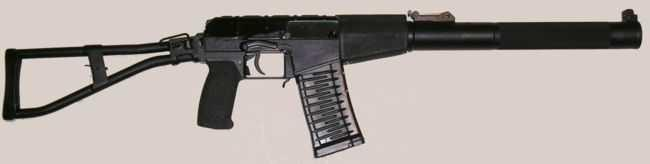heavyweapon: (2, 0, 650, 164)
